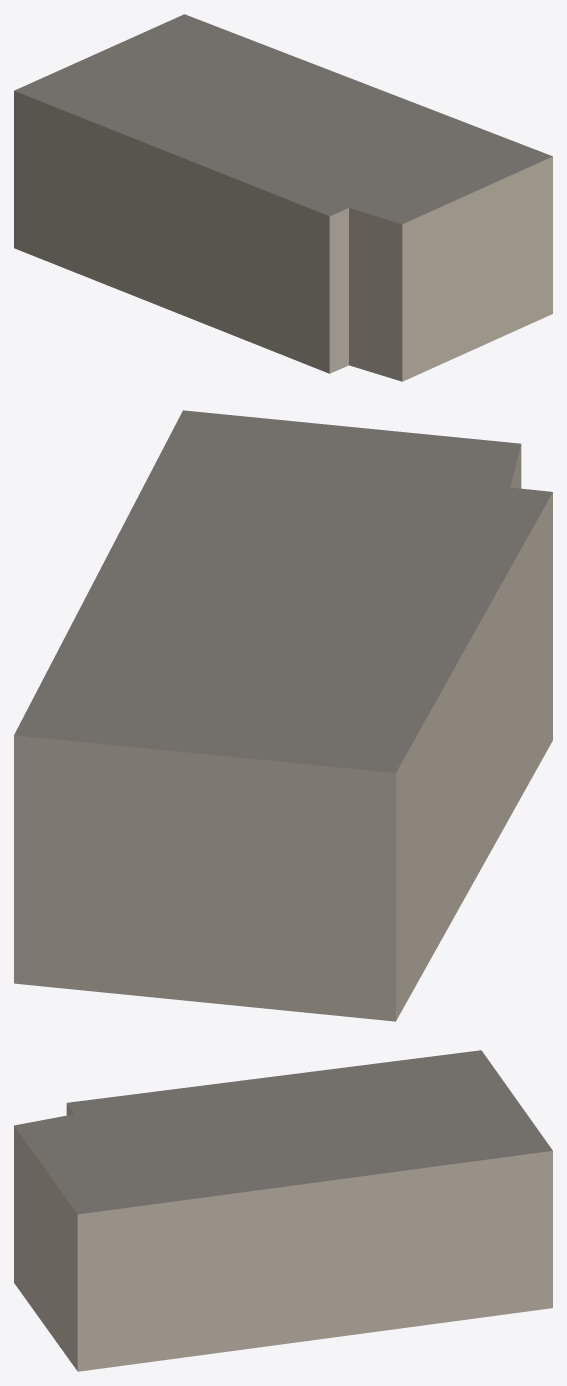
3 views of the same model, one above another, from view 1: azimuth 30°, elevation 25°; view 2: azimuth 150°, elevation 25°; view 3: azimuth 270°, elevation 25° (orthographic). The views are drawn at different scales.
Parts seen in each view (by area): view 1: HP-w1512480738; view 2: HP-w1512480738; view 3: HP-w1512480738.
Part boxes in pixels (x1=…): HP-w1512480738: x1=14, y1=14, x2=552, y2=381; HP-w1512480738: x1=14, y1=410, x2=552, y2=1021; HP-w1512480738: x1=14, y1=1050, x2=552, y2=1371.
Bounding box in the file's own units: 40.31 × 18 × 55.89.
